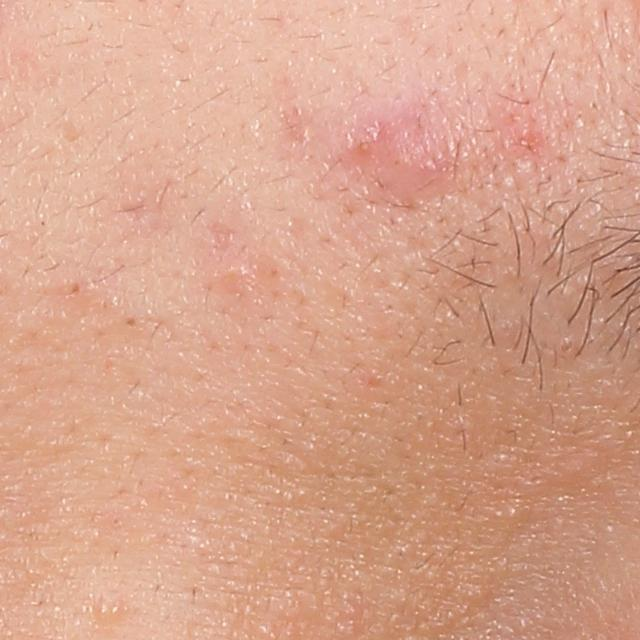papule: (350, 114, 400, 171)
